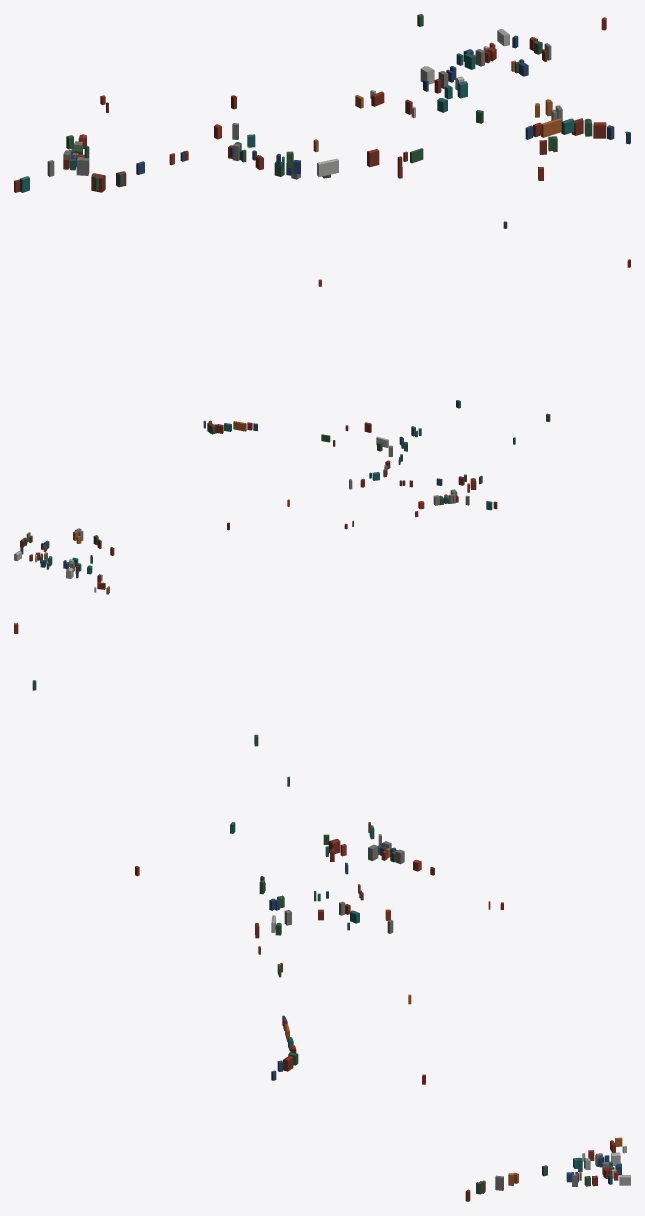
Rendered from near-15-27356-14872.816e5d6e.glb.
3 renders of one model, top to bottom at view 1: azimuth 30°, elevation 25°; view 2: azimuth 150°, elevation 25°; view 3: azimuth 270°, elevation 25°, orthographic. The views are drawn at different scales.
Size of the model in its own units: 1172 by 756 by 1151.
